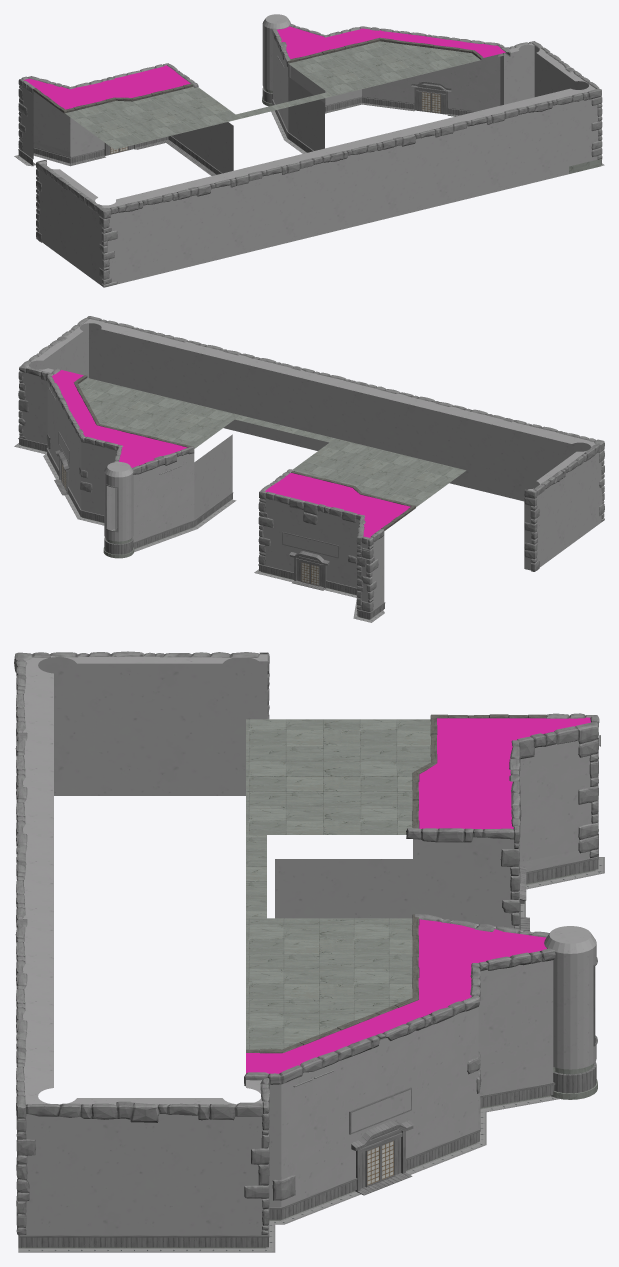
File: SM_ENV_KNVLLG_AreaH_Wall_A.mo.fbx
3 views of the same model, one above another, from view 1: azimuth 30°, elevation 25°; view 2: azimuth 150°, elevation 25°; view 3: azimuth 270°, elevation 25° (orthographic). The views are drawn at different scales.
Parts seen in each view (by area): view 1: SM_ENV_KNVLLG_AreaH_Wall_A.mo; view 2: SM_ENV_KNVLLG_AreaH_Wall_A.mo; view 3: SM_ENV_KNVLLG_AreaH_Wall_A.mo.
Part boxes in pixels (x1,y1,x2,y2): SM_ENV_KNVLLG_AreaH_Wall_A.mo: (14, 14, 604, 287); SM_ENV_KNVLLG_AreaH_Wall_A.mo: (14, 316, 604, 622); SM_ENV_KNVLLG_AreaH_Wall_A.mo: (14, 651, 604, 1252).
Size of the model in its own units: 82.28 by 13.03 by 44.93.
